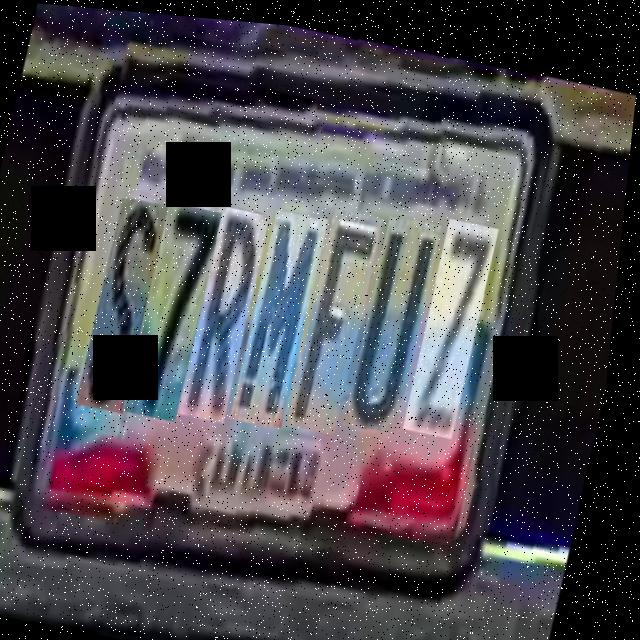7: (132, 190, 227, 414)
F: (295, 197, 388, 426)
M: (238, 197, 333, 421)
R: (185, 195, 275, 416)
S: (84, 186, 174, 407)
U: (350, 202, 447, 427)
Z: (409, 206, 503, 429)
